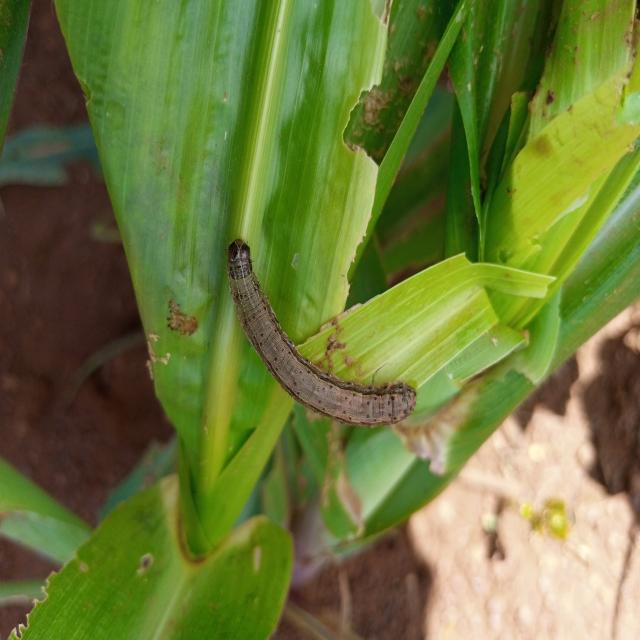yellow-stem-borer-larva: (207, 229, 435, 453)
